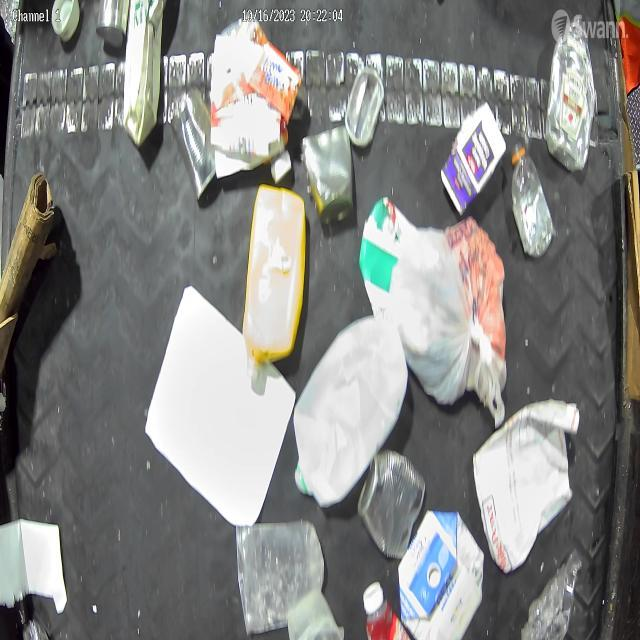can: (356, 448, 426, 562), (301, 124, 354, 224), (171, 88, 215, 200)
milk_jug: (292, 316, 409, 508)
non_white_jug: (242, 185, 306, 381), (545, 13, 595, 173)
plastic_bottle: (510, 142, 556, 261)
